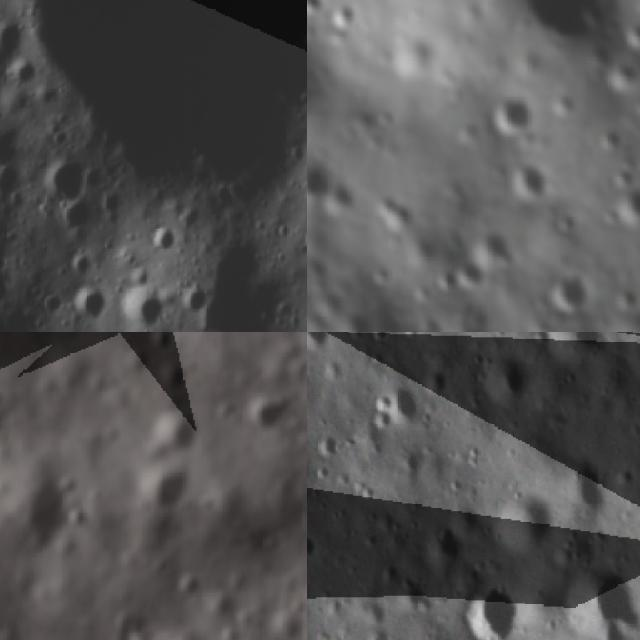crater: (36, 0, 307, 217), (440, 0, 640, 69), (562, 565, 640, 640), (490, 485, 560, 557), (554, 445, 620, 519), (488, 150, 554, 211), (481, 84, 544, 146), (460, 579, 523, 640), (40, 154, 106, 212), (458, 220, 518, 281), (365, 184, 424, 244), (544, 266, 600, 327), (479, 347, 534, 403), (136, 466, 200, 513), (442, 248, 491, 300), (120, 284, 169, 332), (381, 377, 424, 431), (307, 153, 344, 213), (554, 332, 621, 365), (250, 392, 296, 438), (599, 54, 640, 103), (160, 410, 199, 460), (607, 178, 640, 235), (308, 286, 350, 326), (427, 520, 462, 568), (545, 206, 585, 241), (71, 286, 108, 322), (322, 0, 360, 35), (332, 305, 379, 332), (365, 262, 401, 296), (594, 124, 627, 158), (307, 250, 340, 284), (549, 92, 581, 126), (608, 281, 640, 315), (399, 314, 452, 332), (314, 427, 341, 460), (143, 332, 177, 358), (371, 105, 399, 136), (620, 13, 640, 54), (307, 332, 336, 359), (307, 0, 331, 24), (307, 521, 319, 560), (627, 89, 640, 120)
